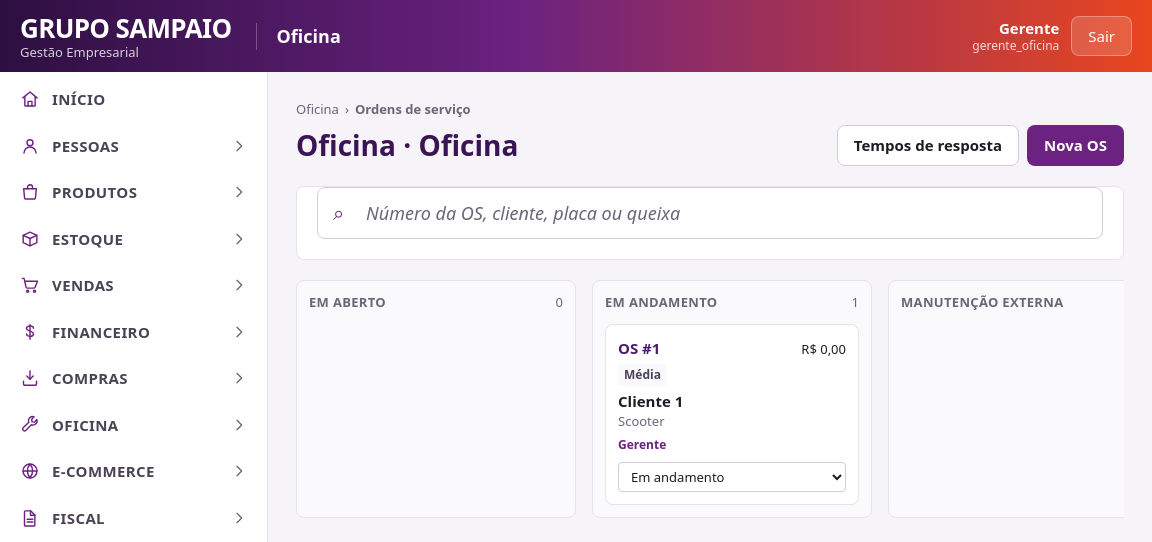
Test: GAP-PRD-183 — o movimento leva o retrato que o card mostrava › 409 da OS que mudou: a mensagem do servidor fica na tela e o quadro recarrega com a coluna real
The image size is (1152, 542).
Expected: the link "OS #1" is shown, [618, 337, 660, 360]
Select "Aguardando peça" in the dropdown at (732, 476), box [618, 462, 846, 492]
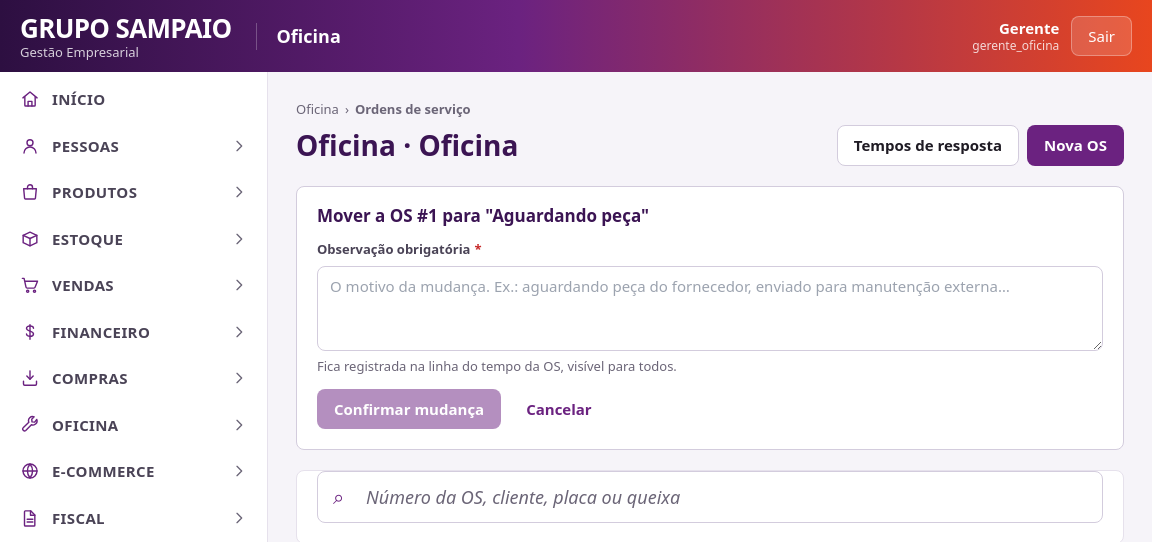
Replace the text in the text box labelled "Observação obrigatória*" with "Peça pedida" at (710, 308), box [317, 266, 1103, 351]
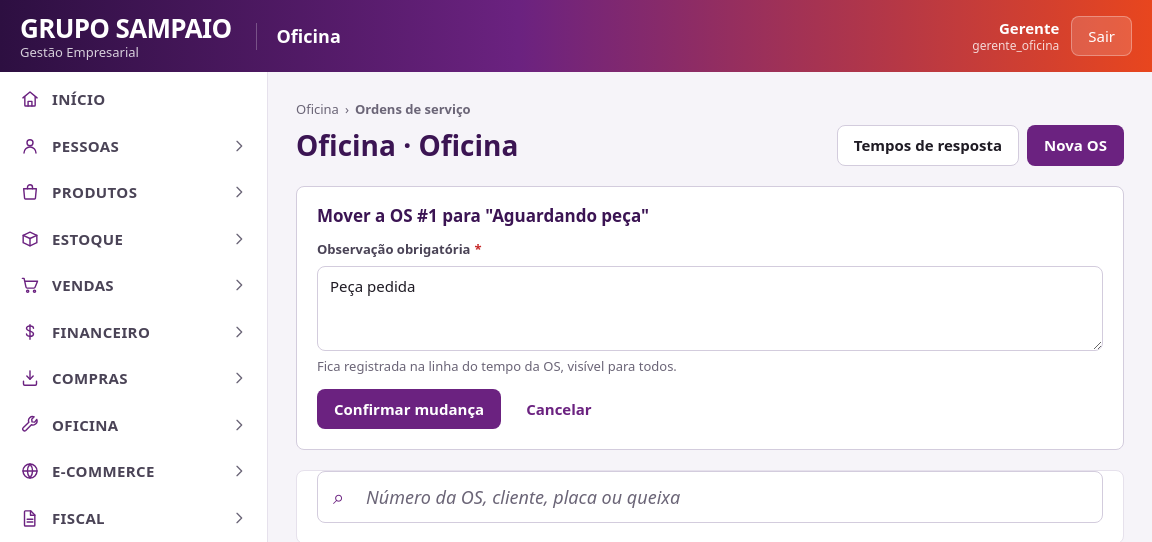
Click the button "Confirmar mudança".
click(409, 409)  # box [317, 388, 501, 429]
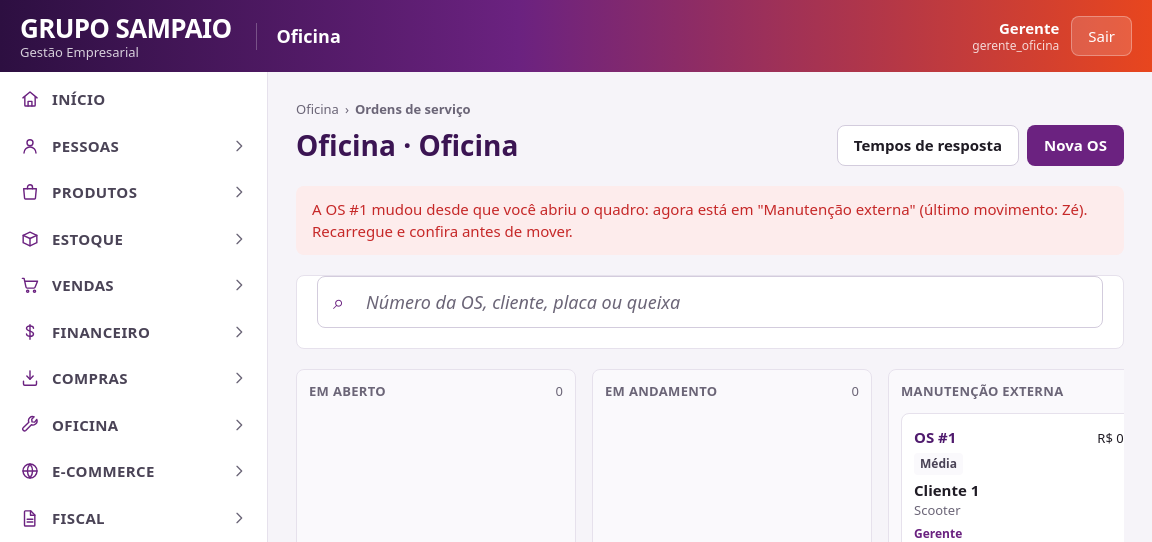
Expected: the link "OS #1" is shown, [914, 426, 956, 448]
Expected: the message shows "agora está em \"Manutenção externa\"", [312, 198, 1088, 241]
Expected: the message shows "Manutenção externa", [312, 198, 1088, 241]
